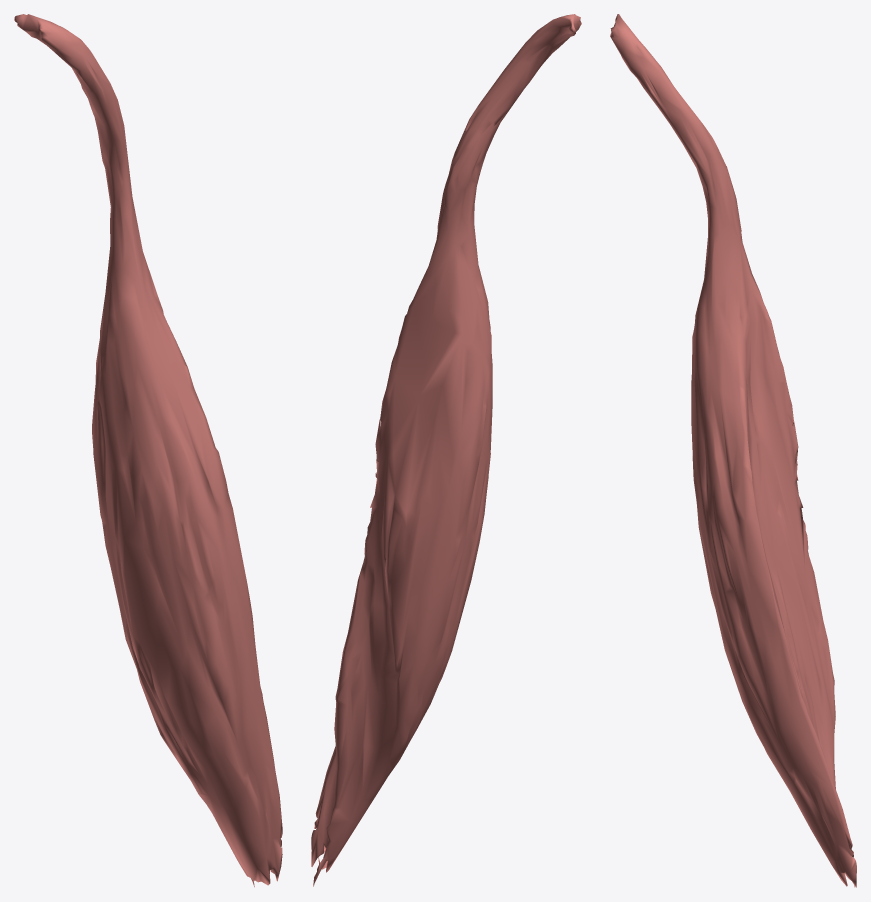
The picture shows the model from 3 angles, left to right: view 1: azimuth 30°, elevation 25°; view 2: azimuth 150°, elevation 25°; view 3: azimuth 330°, elevation 25°; orthographic projection. The views are drawn at different scales.
Visible parts, largest first — view 1: ZA_9324b86ccce8a729; view 2: ZA_9324b86ccce8a729; view 3: ZA_9324b86ccce8a729.
Boxes of the visible parts, bbox=[...] form: ZA_9324b86ccce8a729: bbox=[14, 14, 282, 887]; ZA_9324b86ccce8a729: bbox=[311, 14, 581, 886]; ZA_9324b86ccce8a729: bbox=[610, 14, 856, 887].
Bounding box in the file's own units: 0.0815 × 0.2731 × 0.0344.
